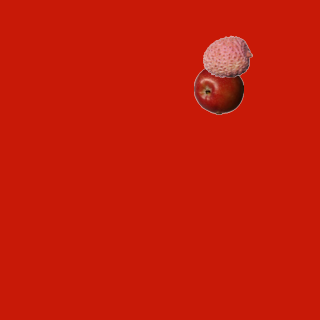Apple Braeburn: (193, 64, 243, 114)
Lychee: (202, 31, 252, 81)
